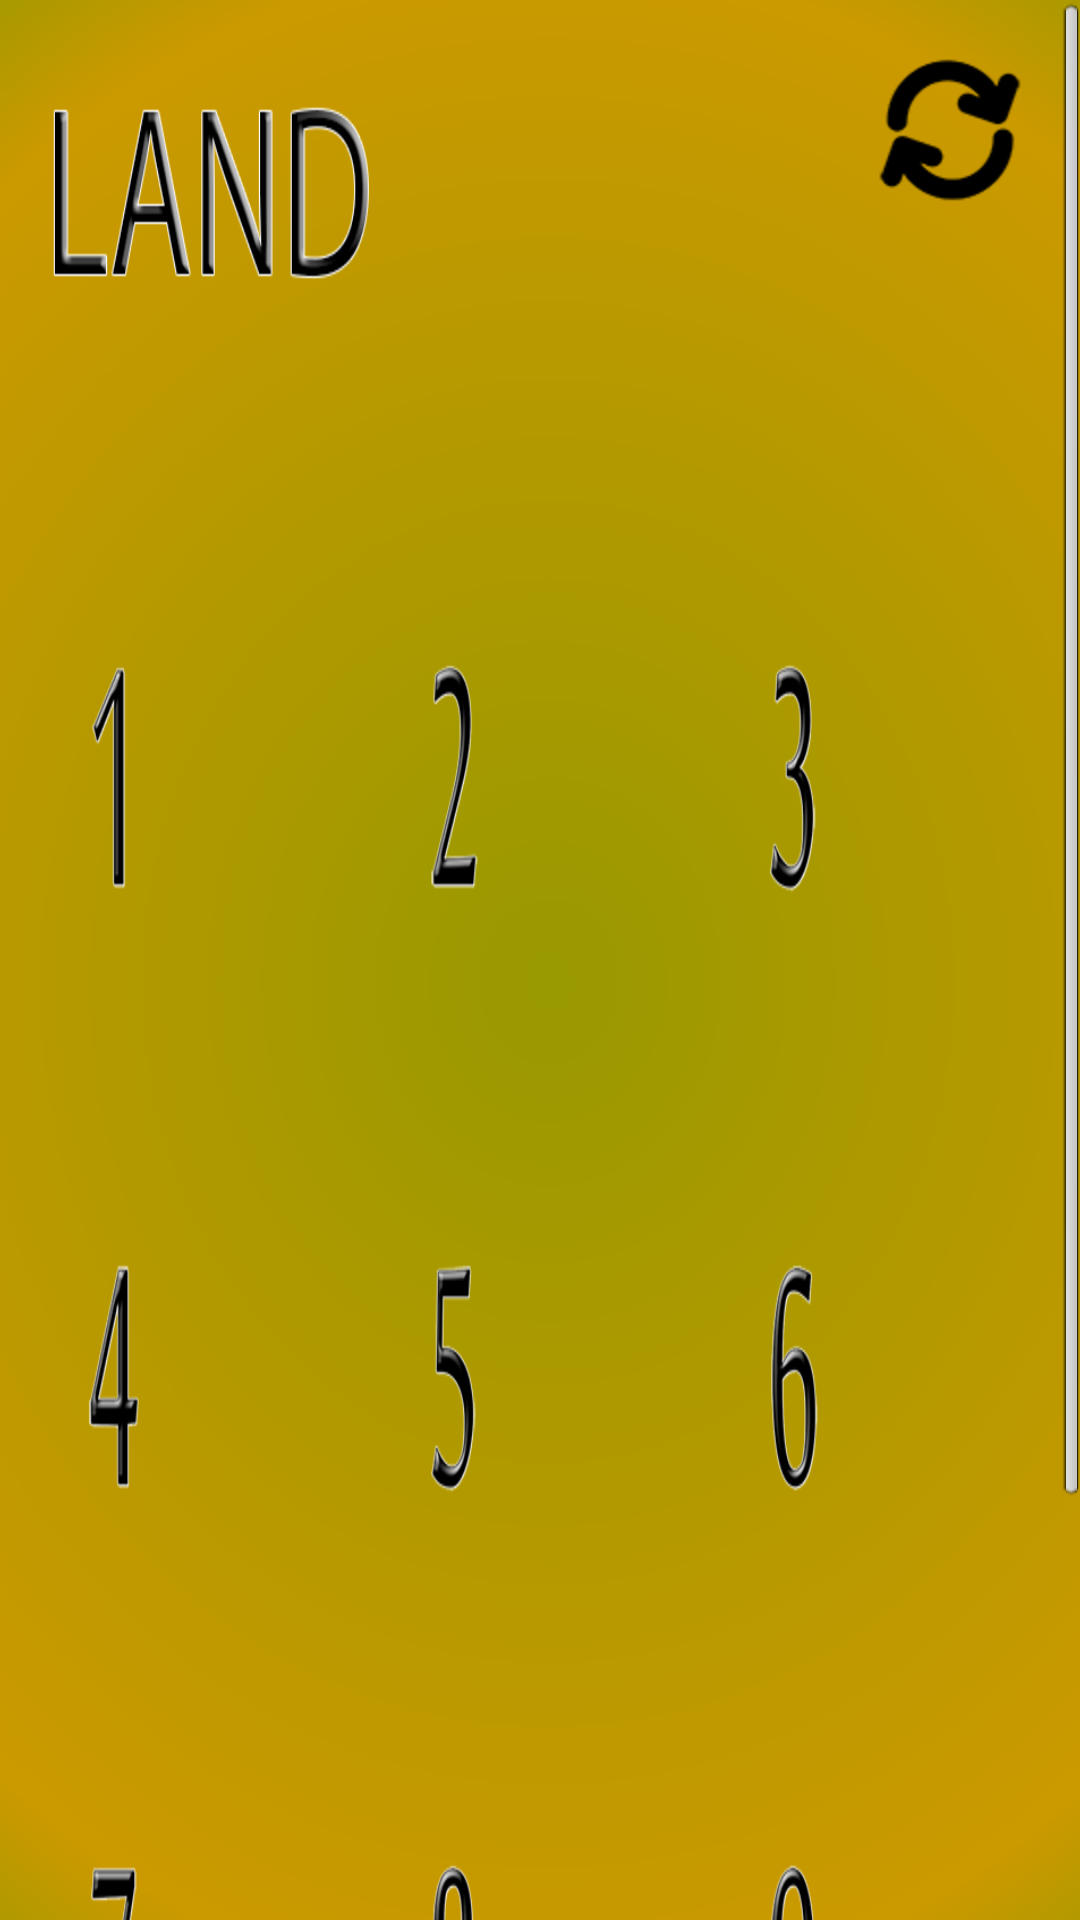

Icons on this 1080 × 1920 Android screen, each with the point to tap as (x=x, y=y):
reset: (x=950, y=130)
